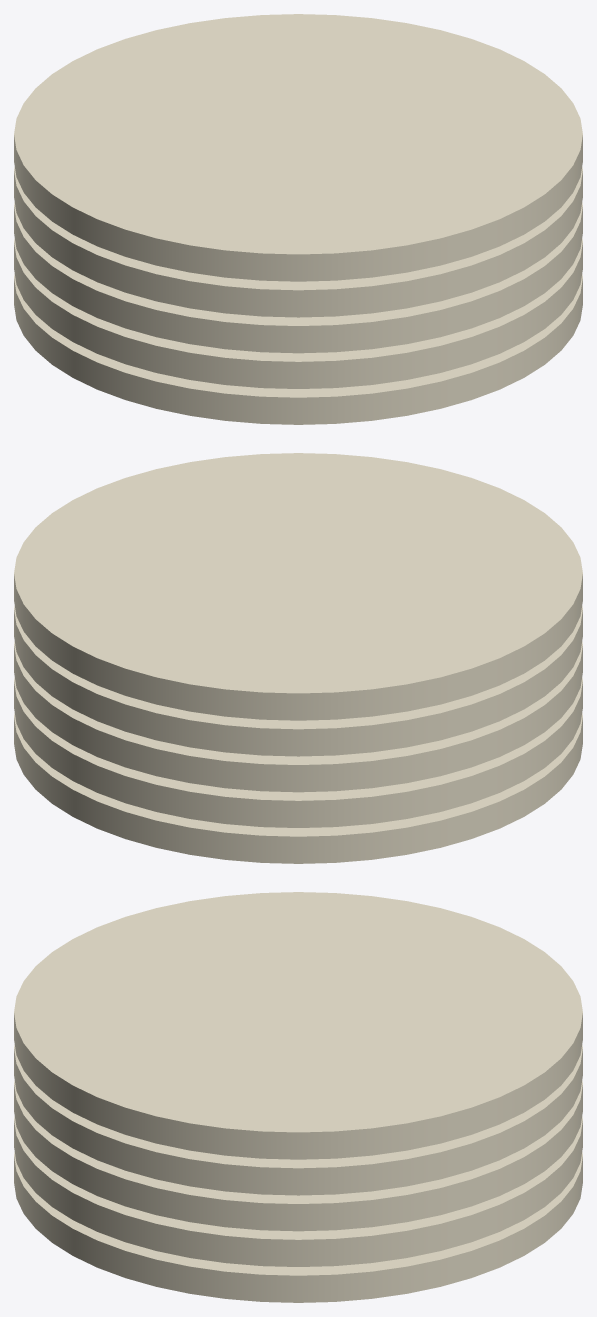
The model's file is ceramics-pottery-studio-plaster-bat-stack-78ed5fca__29507.glb.
The picture shows the model from 3 angles, top to bottom: view 1: azimuth 30°, elevation 25°; view 2: azimuth 150°, elevation 25°; view 3: azimuth 270°, elevation 25°; orthographic projection.
Visible parts, largest first — view 1: plaster-bat-stack; view 2: plaster-bat-stack; view 3: plaster-bat-stack.
Boxes of the visible parts, bbox=[...] form: plaster-bat-stack: bbox=[14, 14, 582, 424]; plaster-bat-stack: bbox=[14, 453, 582, 863]; plaster-bat-stack: bbox=[14, 892, 582, 1302].
Size of the model in its own units: 0.36 by 0.119 by 0.36.
